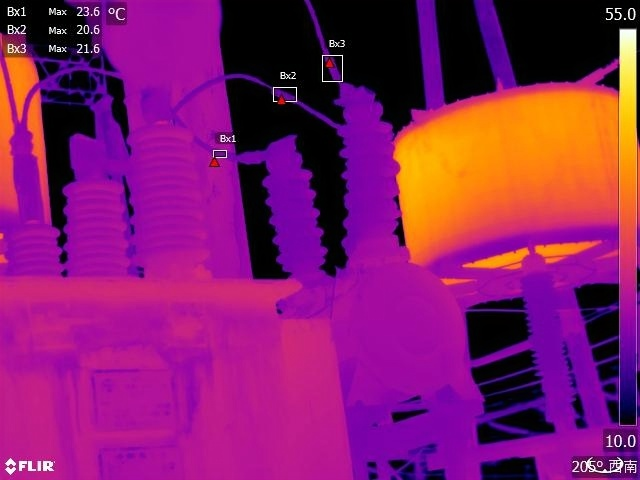capacitor: (395, 74, 640, 302)
post insulator: (516, 267, 580, 414)
tube: (125, 101, 219, 271), (329, 84, 415, 260), (257, 127, 332, 279), (56, 152, 135, 282), (11, 207, 68, 286)
